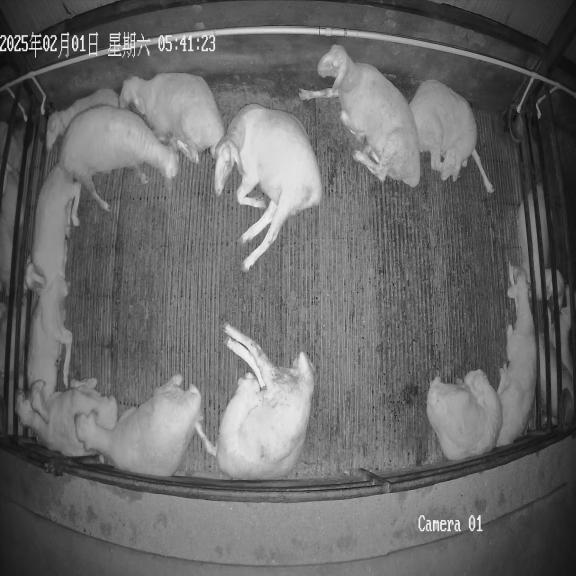lying: (214, 104, 323, 271), (299, 45, 420, 187), (215, 324, 314, 479), (74, 374, 202, 476), (119, 73, 226, 164), (410, 80, 494, 193), (18, 379, 118, 456), (496, 265, 536, 446), (25, 165, 81, 294), (426, 369, 502, 460), (27, 269, 72, 419), (46, 89, 119, 150)
stand: (58, 106, 179, 211)
